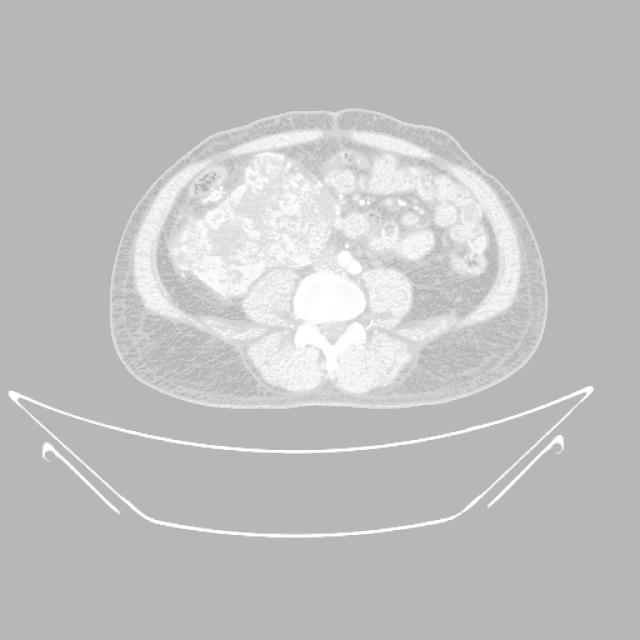TUMOR: (154, 127, 529, 312)
